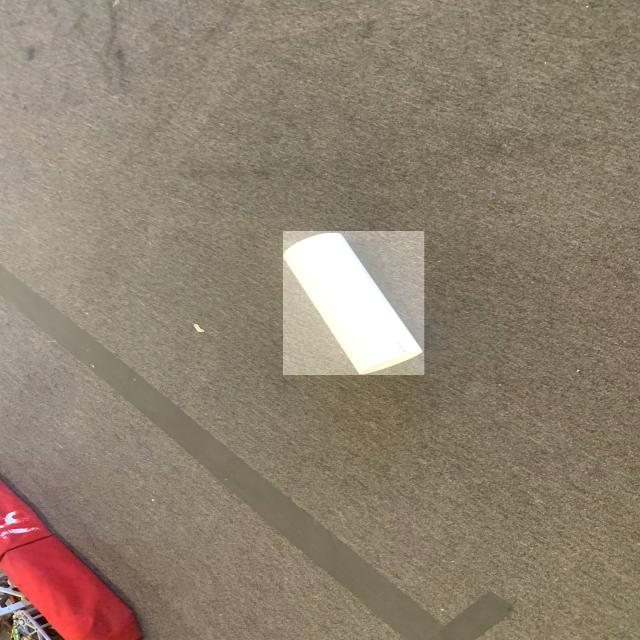Coral: (284, 231, 426, 375)
